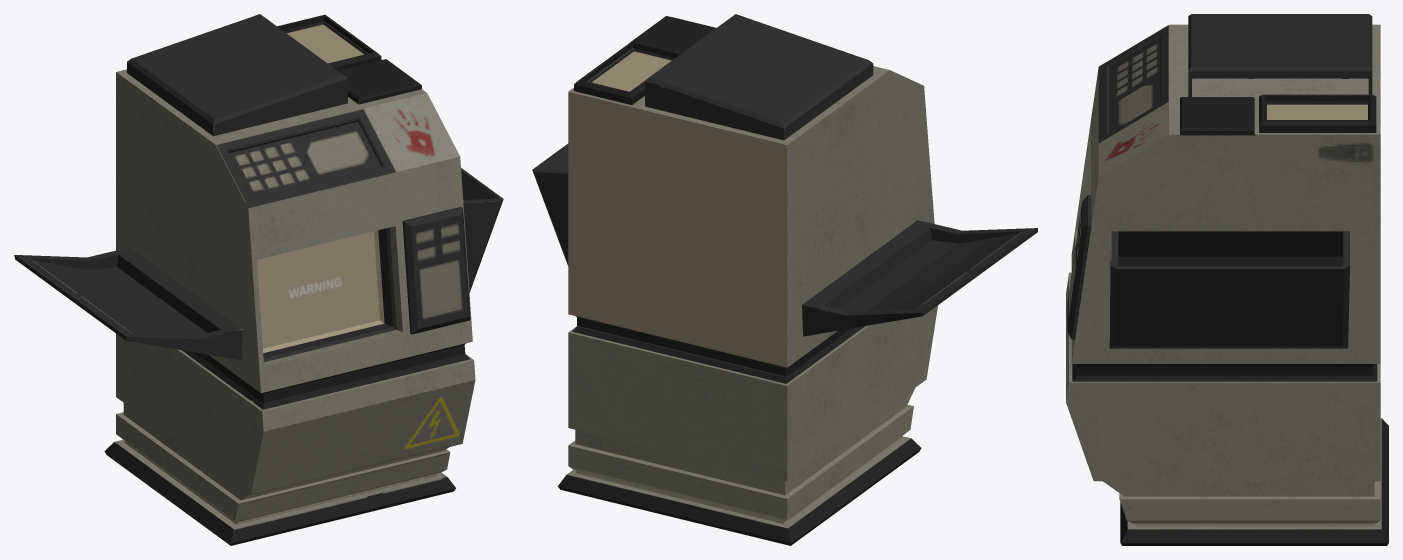
The model's file is Printer.fbx.
The picture shows the model from 3 angles, left to right: view 1: azimuth 30°, elevation 25°; view 2: azimuth 150°, elevation 25°; view 3: azimuth 270°, elevation 25°; orthographic projection. The views are drawn at different scales.
Visible parts, largest first — view 1: Printer; view 2: Printer; view 3: Printer.
Part boxes in pixels (x1,y1,x2,y2): Printer: (14,14,503,545); Printer: (532,14,1037,545); Printer: (1066,14,1388,545).
Bounding box in the file's own units: 116 × 120 × 80.
1 material, 1 textured.
